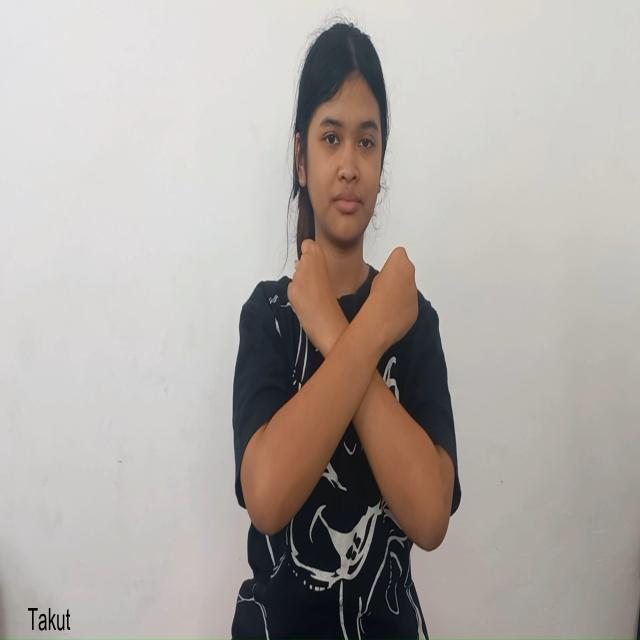Takut -BISINDO-: (286, 218, 434, 509)
